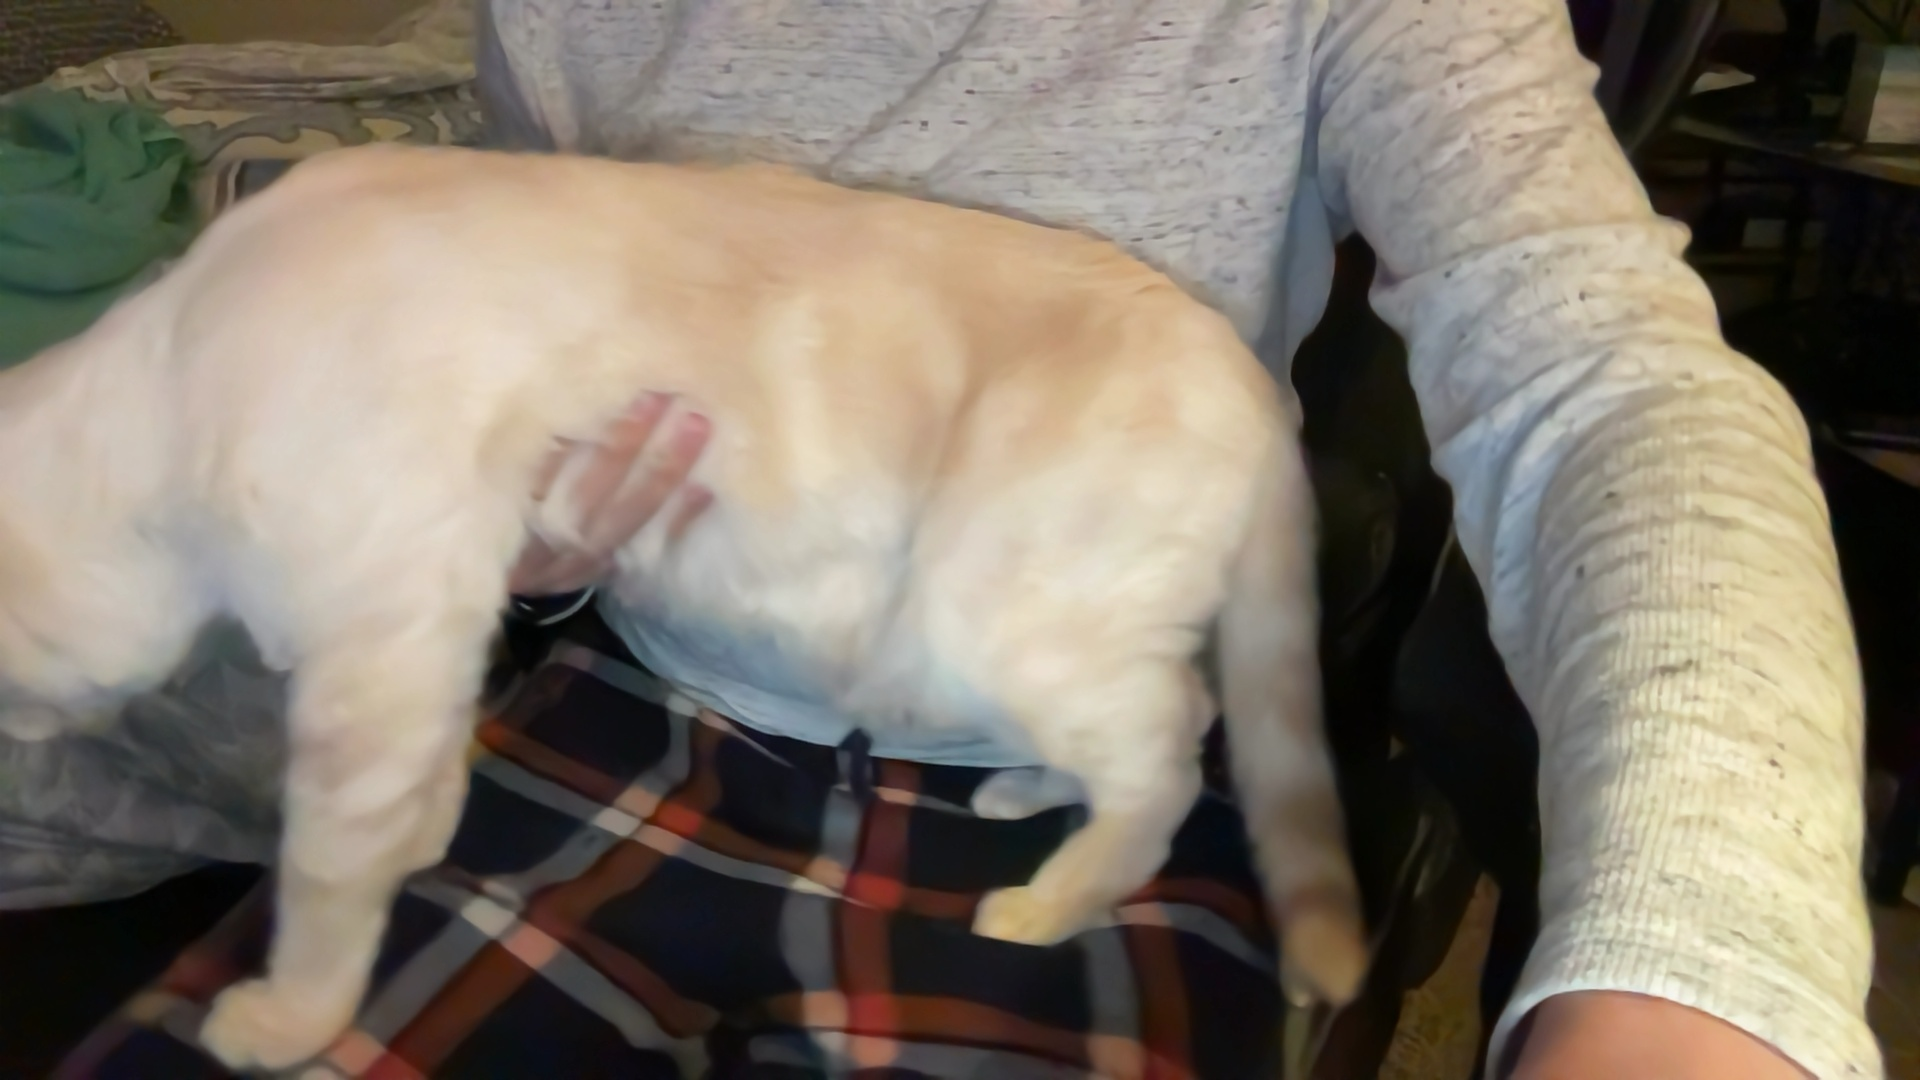cat: (1, 148, 1370, 1069)
